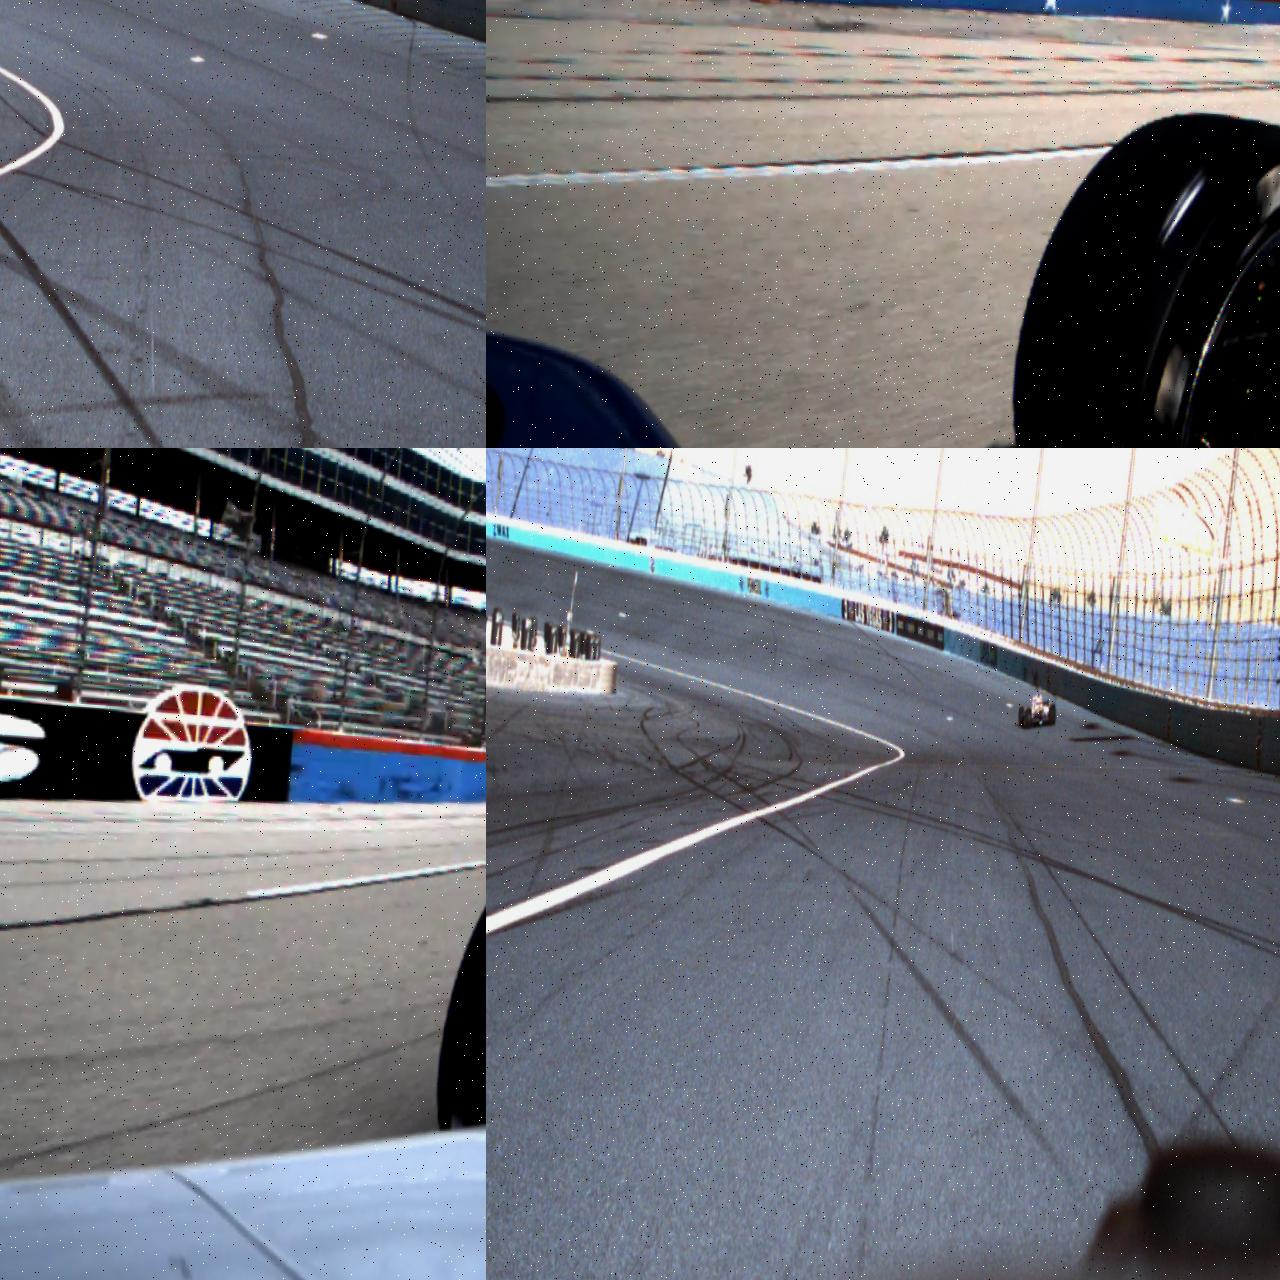AV: (1018, 684, 1058, 730)
Wheel: (999, 97, 1280, 448), (1048, 704, 1056, 724), (1024, 708, 1032, 728), (1019, 706, 1024, 726)
